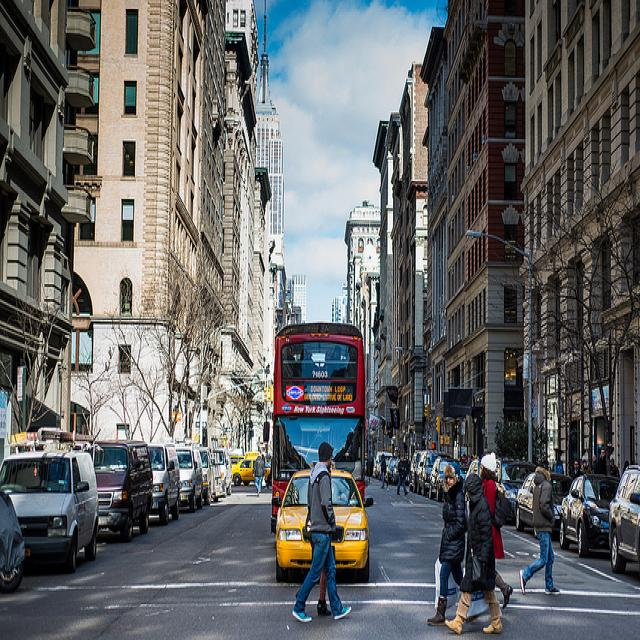Vehicle: (0, 308, 483, 600), (272, 323, 368, 531), (0, 445, 102, 578), (272, 468, 374, 583), (93, 441, 153, 542), (558, 472, 622, 558), (515, 471, 573, 540), (606, 461, 640, 577), (495, 460, 537, 526), (147, 443, 180, 526), (175, 442, 203, 514), (428, 456, 458, 502), (198, 445, 218, 506), (416, 452, 442, 495), (232, 459, 256, 486)
